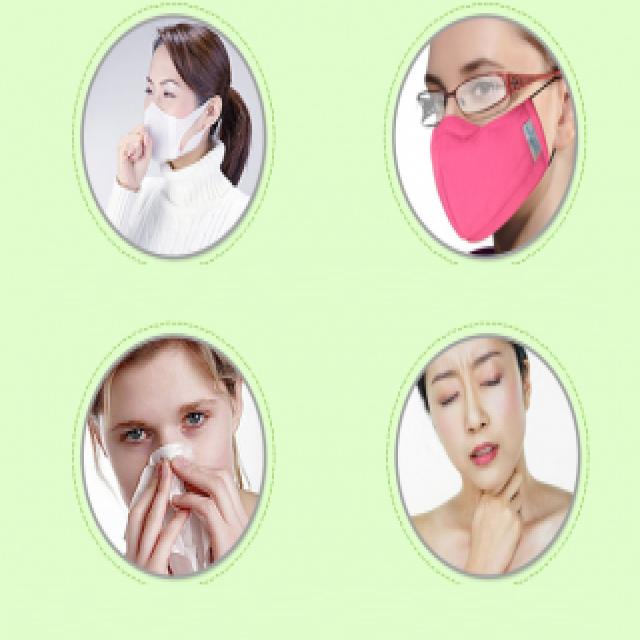mask: (420, 55, 556, 246), (140, 66, 196, 161)
nomask: (103, 377, 233, 549), (424, 348, 524, 488)
